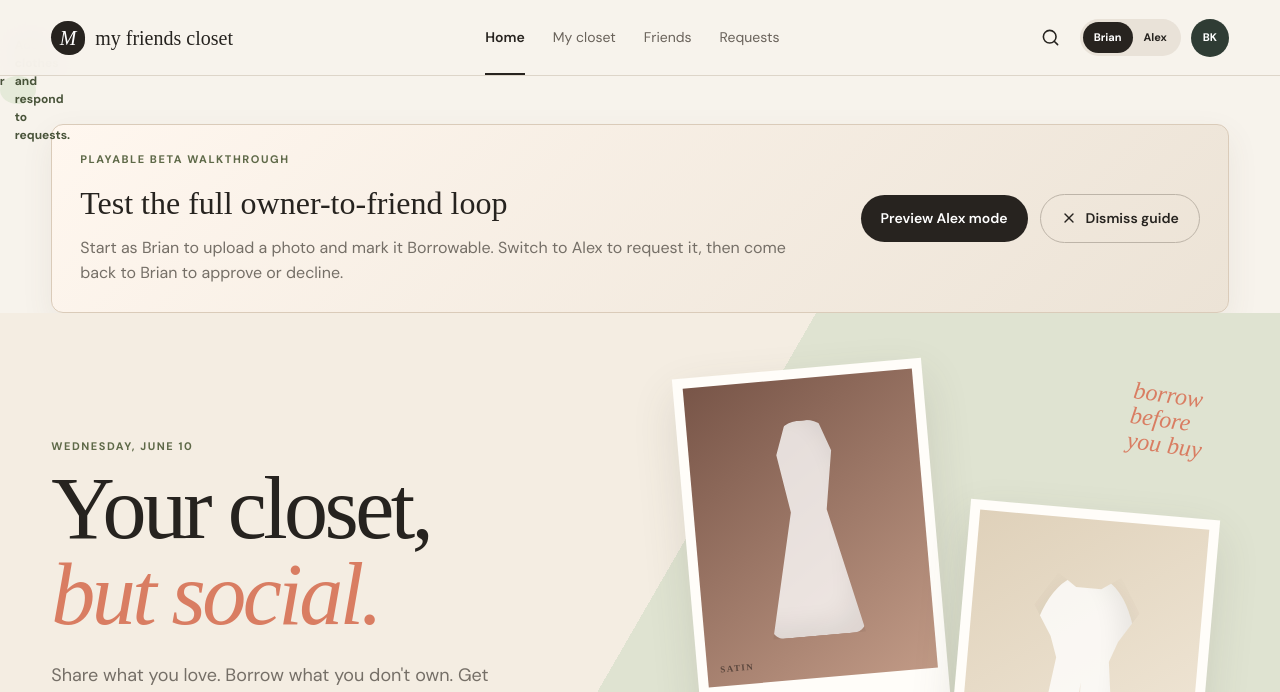
My Friends Closet playable beta › shows a first-run onboarding guide and remembers when it is dismissed
The width and height of the screenshot is (1280, 692).
Expected: the heading "Test the full owner-to-friend loop" is shown, top-left (80, 185), bottom-right (507, 221)
Click the button "Dismiss guide".
click(1120, 218)  # box top-left (1040, 194), bottom-right (1200, 243)
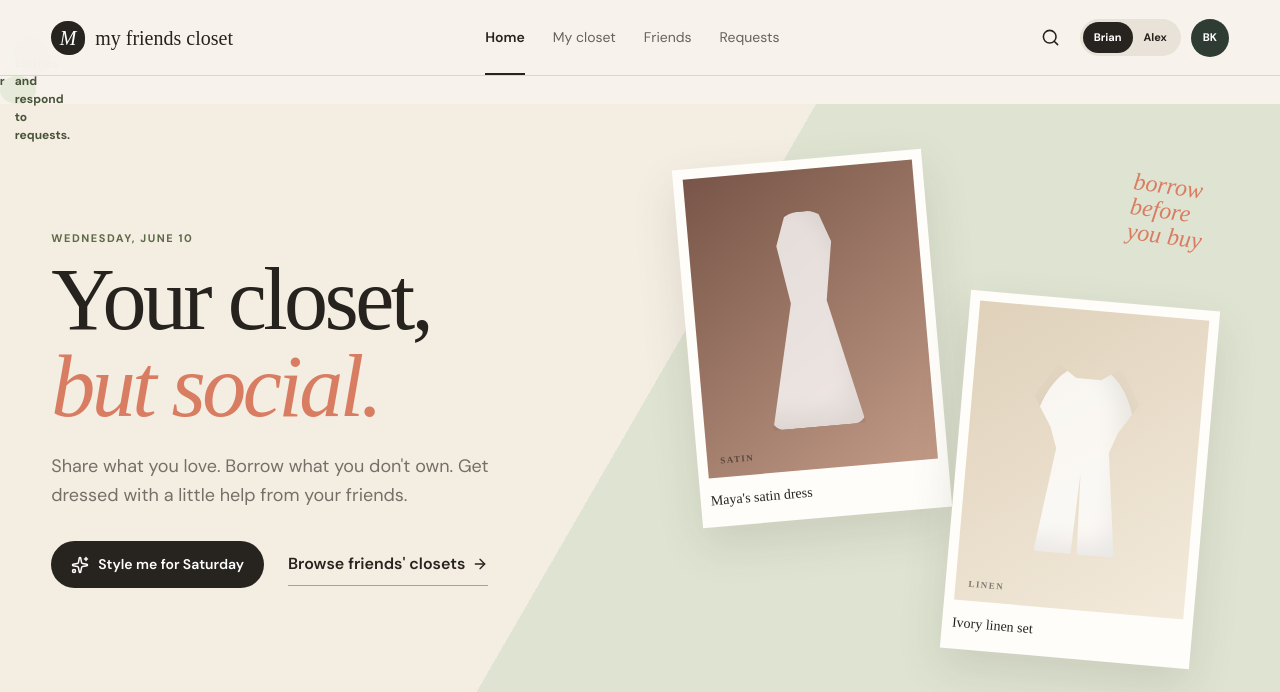
Expected: the heading "Test the full owner-to-friend loop" is gone
